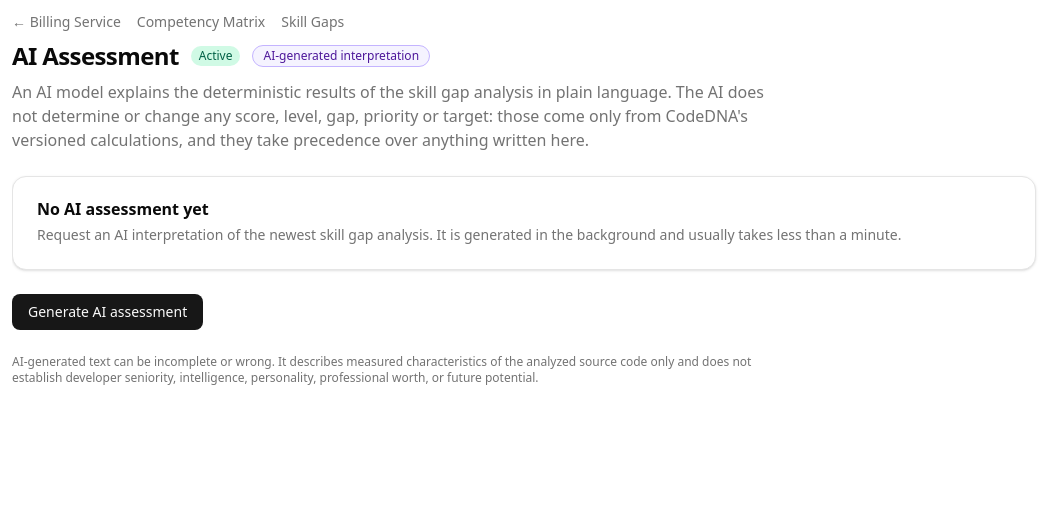
AssessmentView › links to Billing when the plan refuses with FEATURE_NOT_INCLUDED
What coordinates should you click on to do the following:
click the button "Generate AI assessment"
I would click on:
 (108, 312)
Its box is [12,294,203,330].
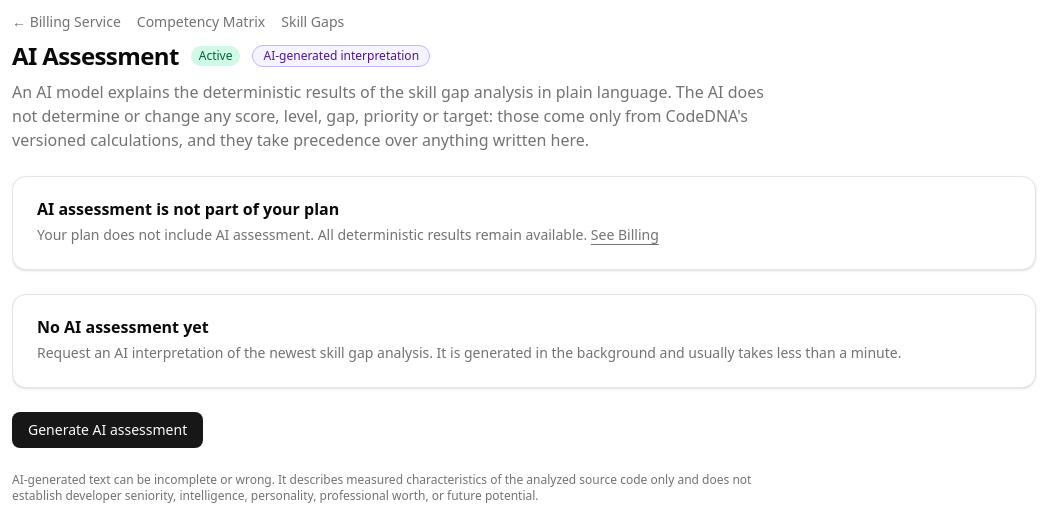
Check: the element with test id "assessment-plan" shows "AI assessment is not part of your plan", box [37,198,339,220]
